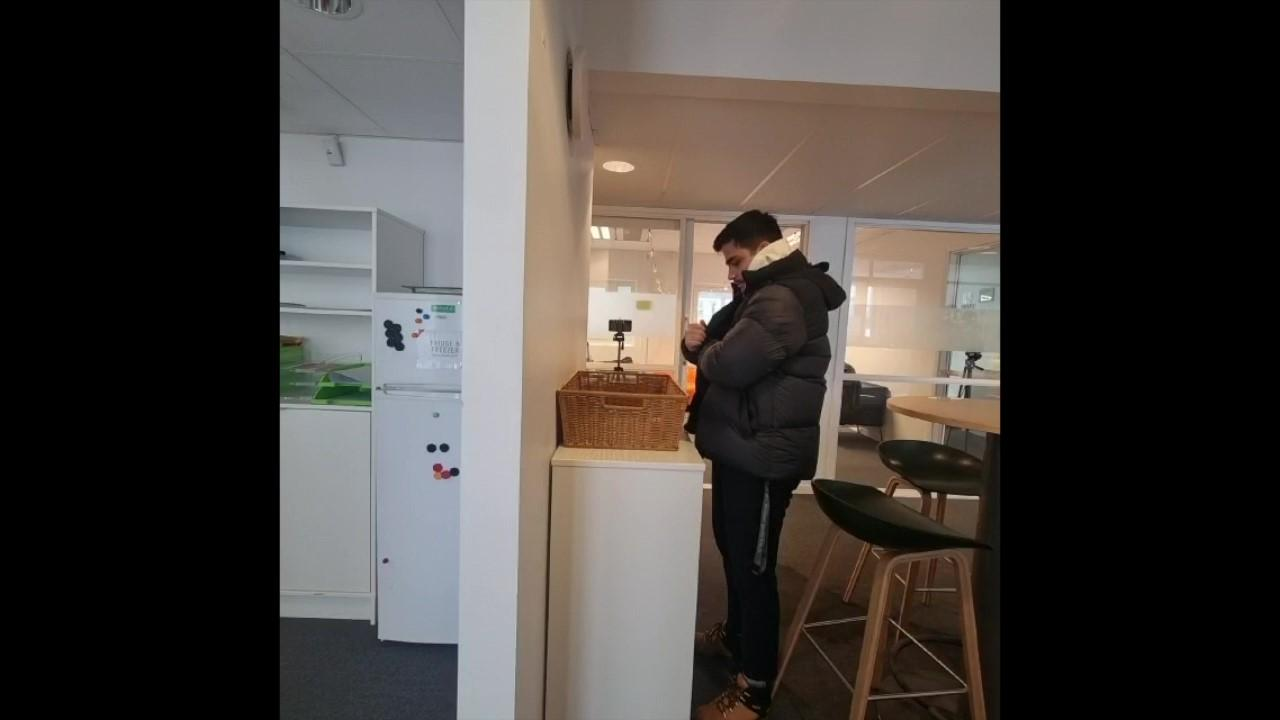shoplifting: (684, 210, 833, 720)
